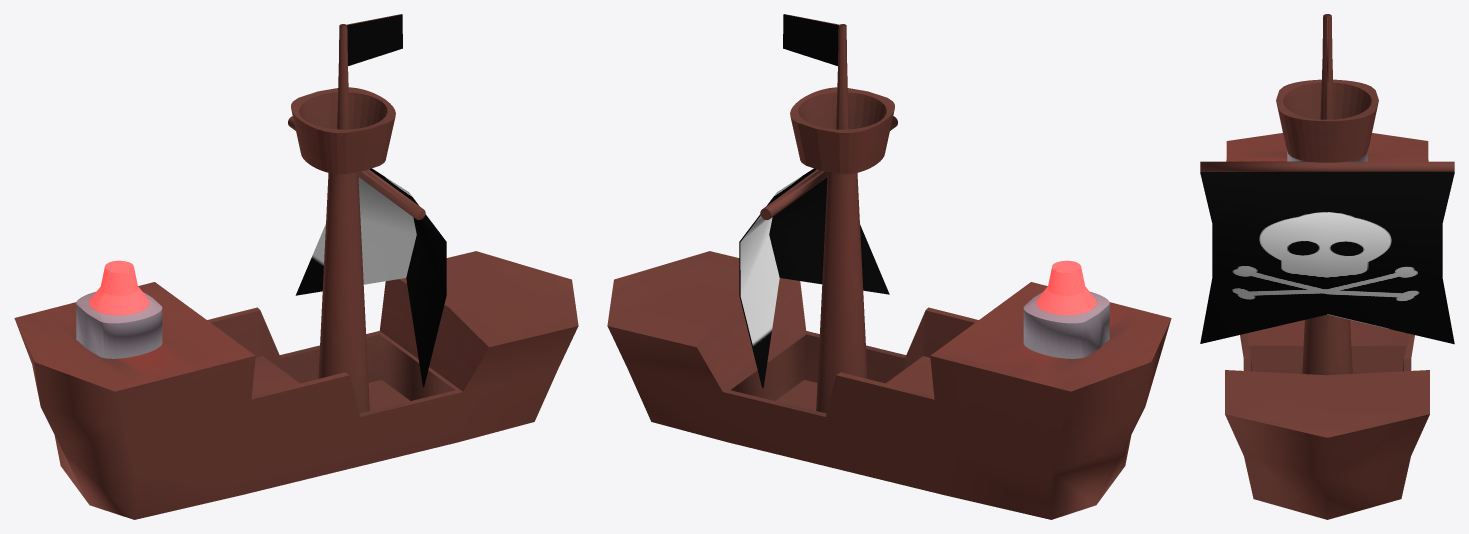
The model's file is pirate_ship.fbx.
The picture shows the model from 3 angles, left to right: view 1: azimuth 30°, elevation 25°; view 2: azimuth 150°, elevation 25°; view 3: azimuth 270°, elevation 25°; orthographic projection.
Parts seen in each view (by area): view 1: Cylinder; view 2: Cylinder; view 3: Cylinder.
Boxes of the visible parts, bbox=[...] form: Cylinder: bbox=[14, 14, 578, 519]; Cylinder: bbox=[607, 14, 1171, 519]; Cylinder: bbox=[1200, 14, 1454, 519].
Size of the model in its own units: 621 by 463 by 254.
Materials: 2 (2 with a texture image).
